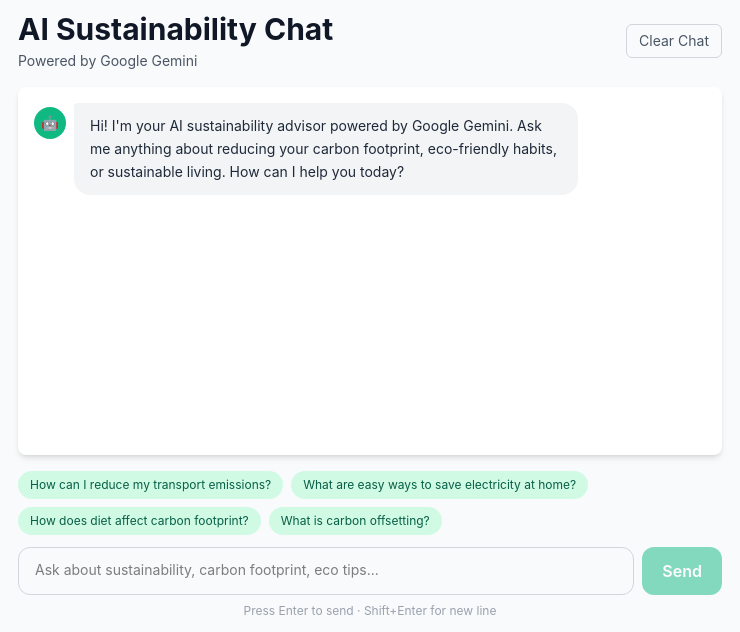
Test: Integration: AI Chat send and receive › sends a message and displays AI response
In the text box named "chat input": (326, 571) top-left (18, 547), bottom-right (634, 595), type "How do I reduce my carbon footprint?"
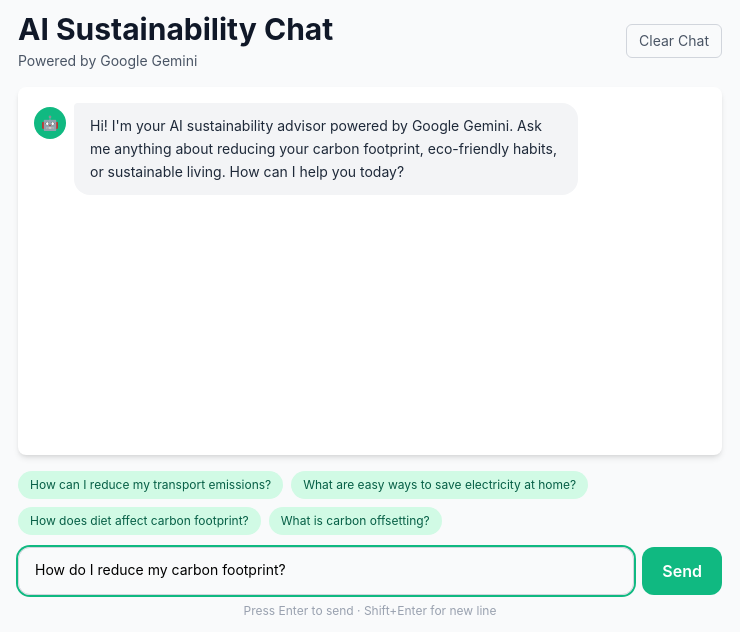
Click the button with aria-label "send message": (682, 571) top-left (642, 547), bottom-right (722, 595)
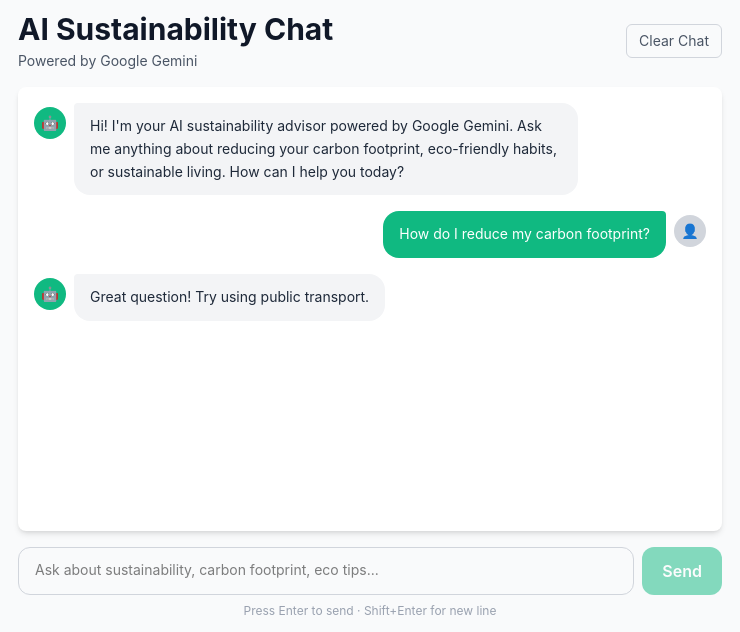
Expected: the text "Great question! Try using public transport." is shown, top-left (74, 274), bottom-right (385, 321)
